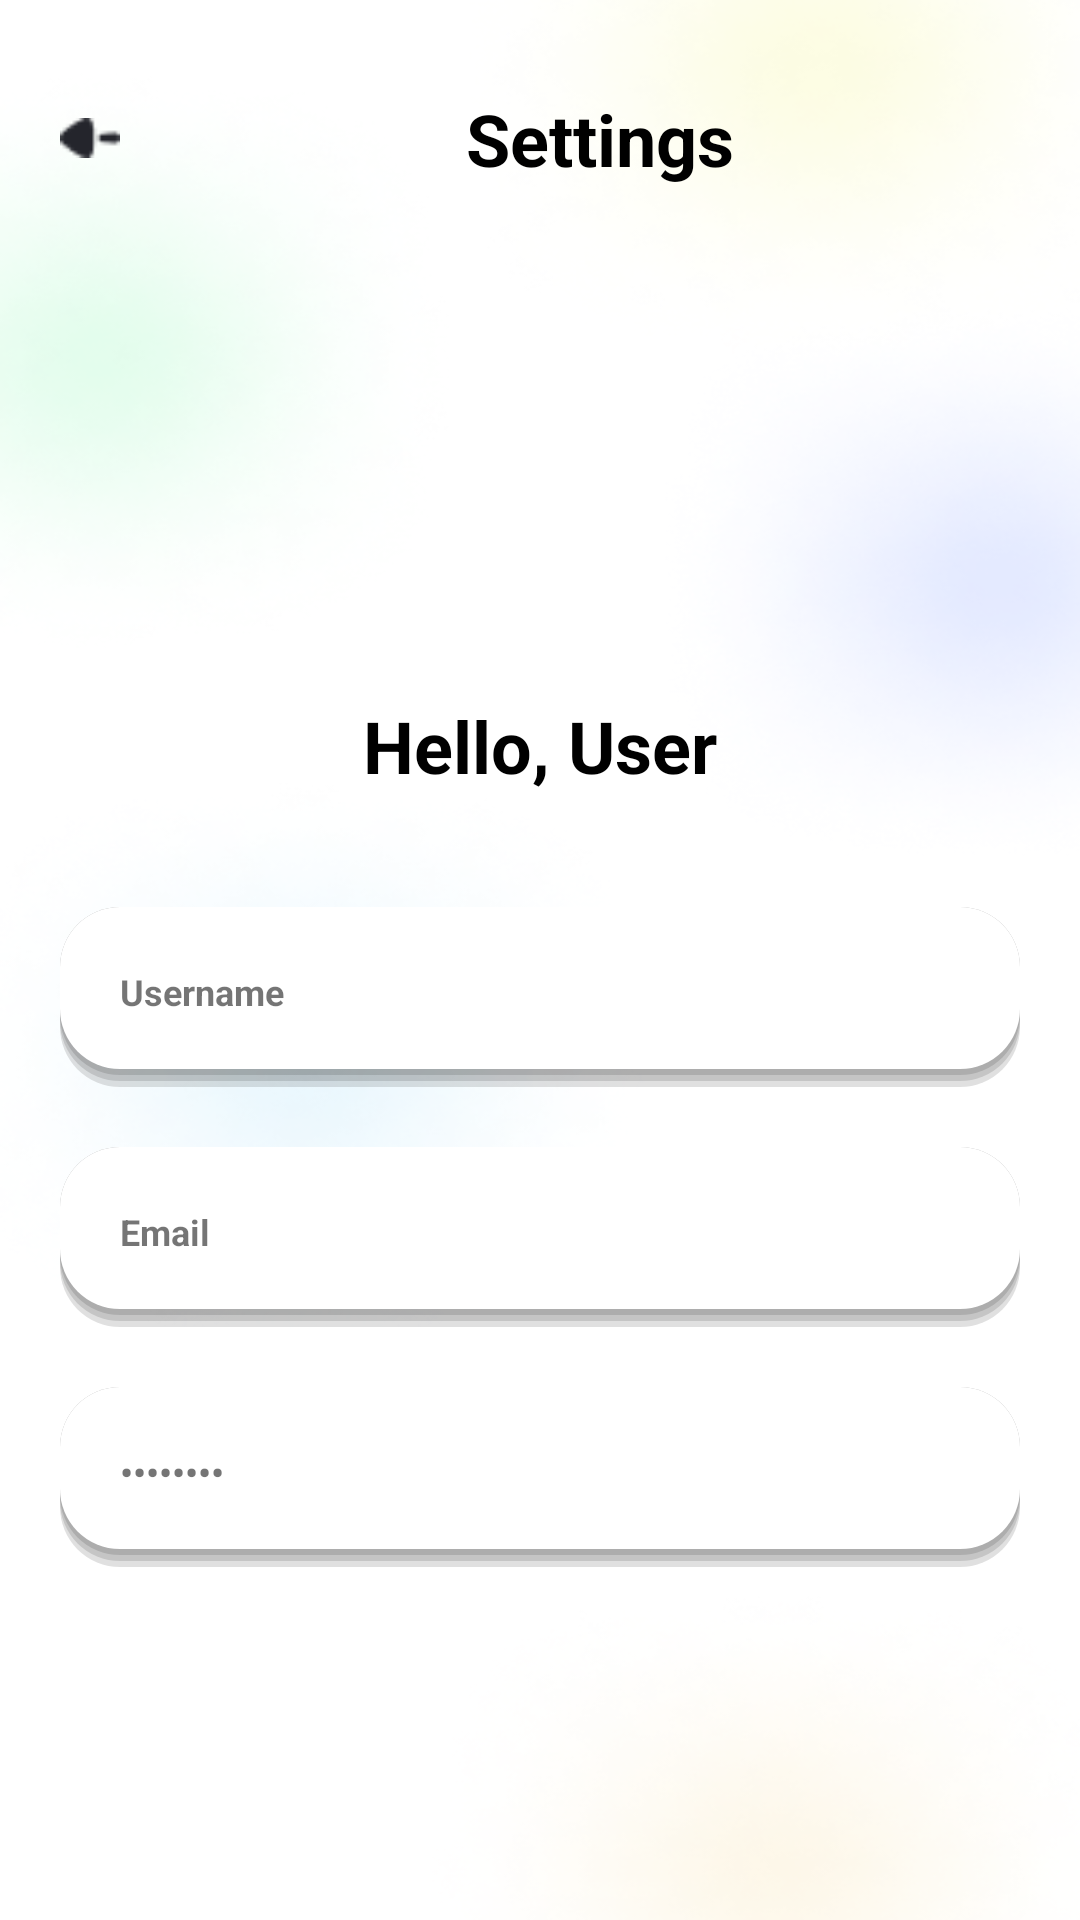

Icon bounding boxes for this 1080 x 1920 phone screenshot, format (x1, y1, x2, y2):
arrow back: (60, 118, 120, 158)
